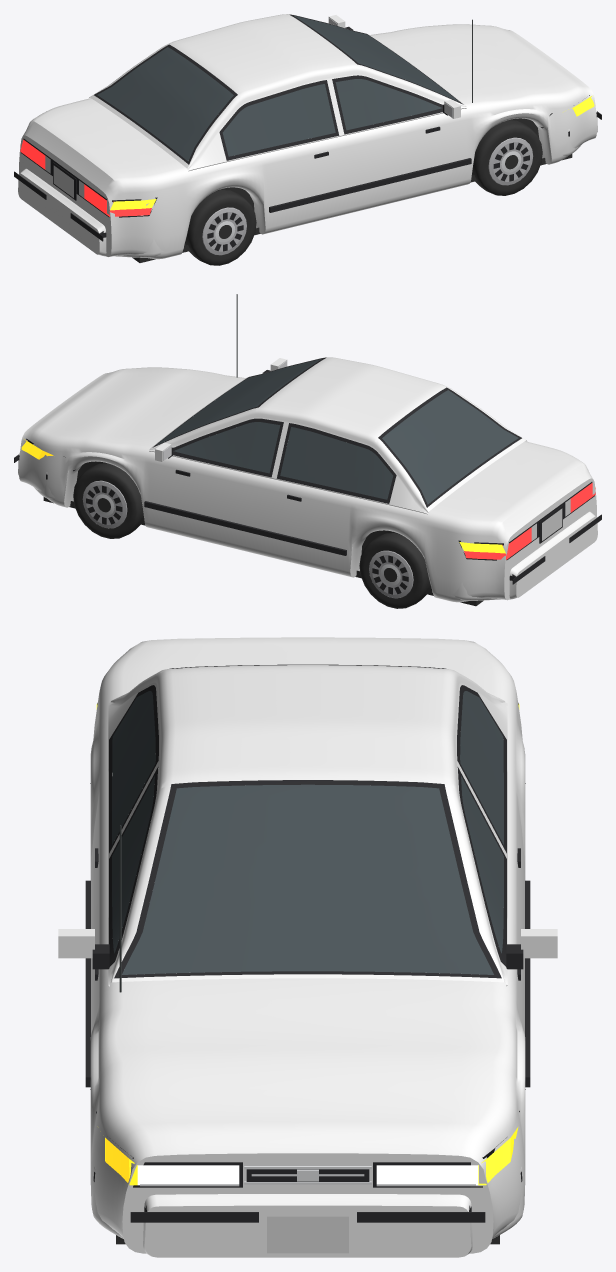
Rendered from car_sedan.glb.
The picture shows the model from 3 angles, top to bottom: view 1: azimuth 30°, elevation 25°; view 2: azimuth 150°, elevation 25°; view 3: azimuth 270°, elevation 25°; orthographic projection. The views are drawn at different scales.
Visible parts, largest first — view 1: body, wheel_RR, wheel_FR; view 2: body, wheel_RL, wheel_FL; view 3: body.
Boxes of the visible parts, bbox=[...] form: body: bbox=[14, 14, 601, 262]; wheel_RR: bbox=[185, 190, 256, 265]; wheel_FR: bbox=[472, 120, 542, 195]; body: bbox=[14, 294, 601, 606]; wheel_RL: bbox=[359, 533, 430, 608]; wheel_FL: bbox=[73, 463, 143, 538]; body: bbox=[58, 637, 557, 1257].
Bounding box in the file's own units: 4.71 × 1.62 × 2.04.
